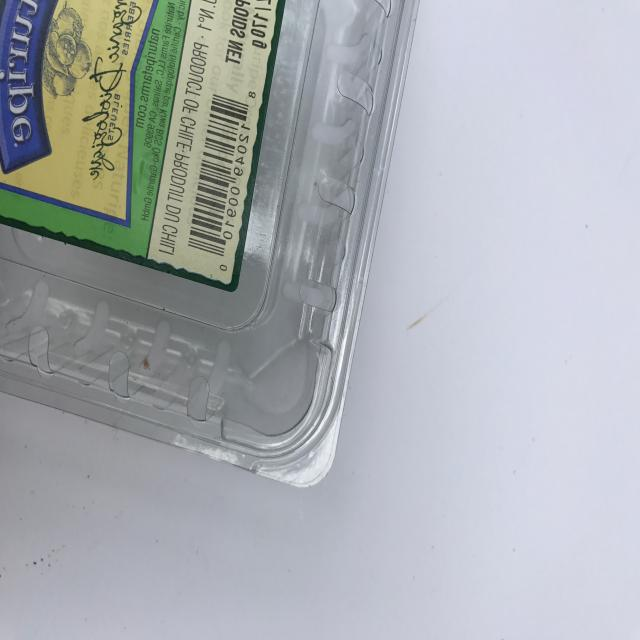plastic: (0, 0, 420, 487)
